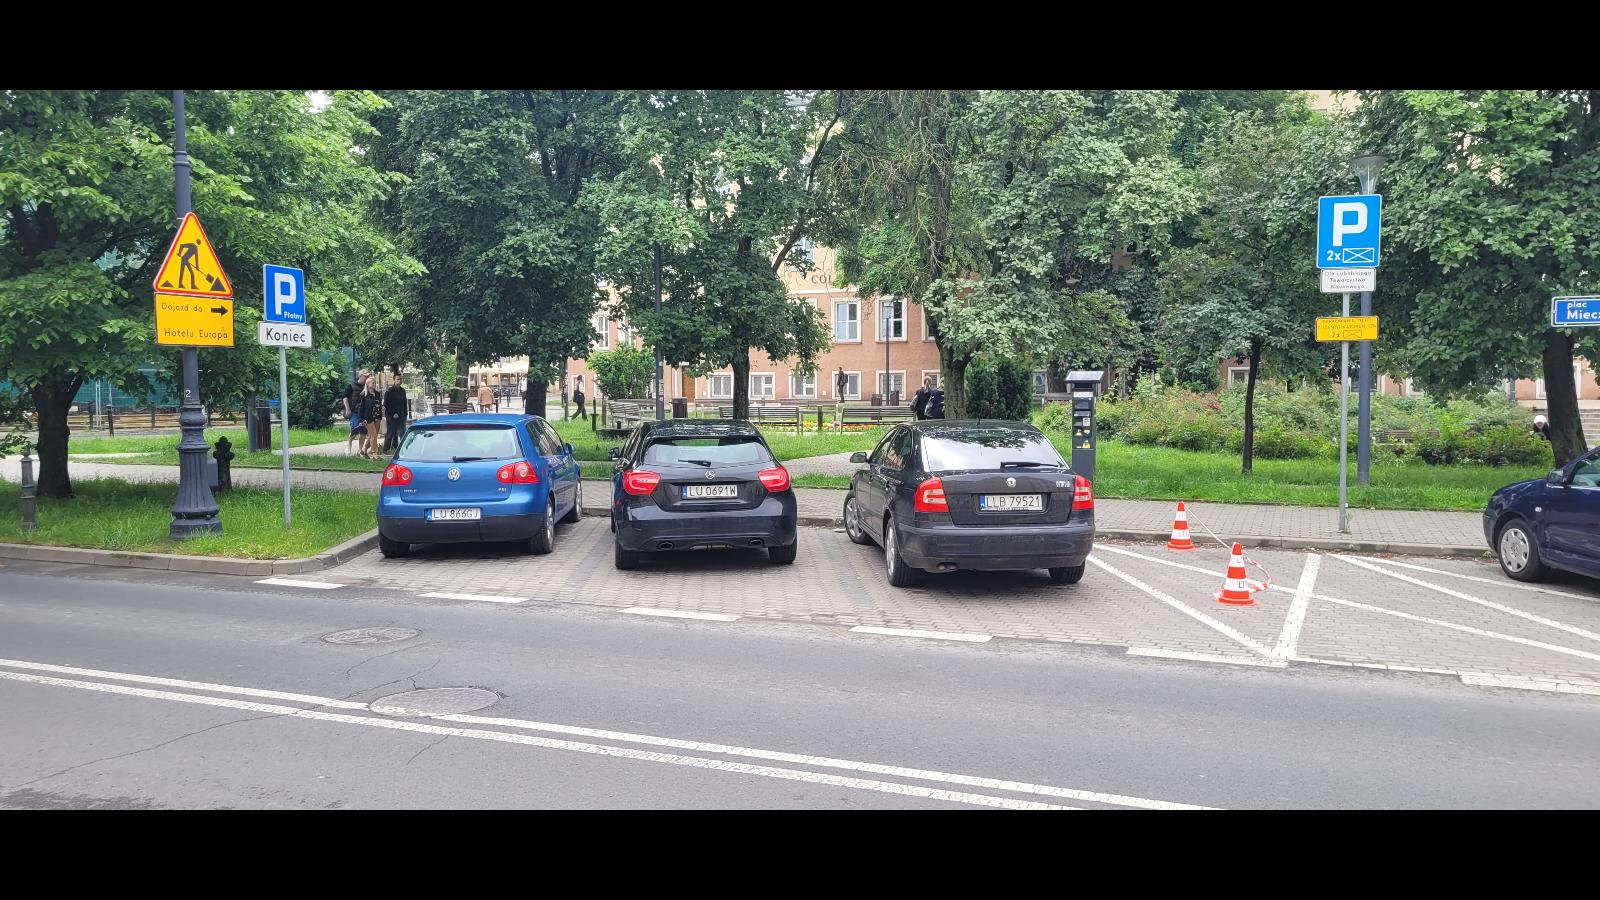plates: (979, 493, 1045, 513), (680, 484, 740, 499), (426, 508, 482, 522)
